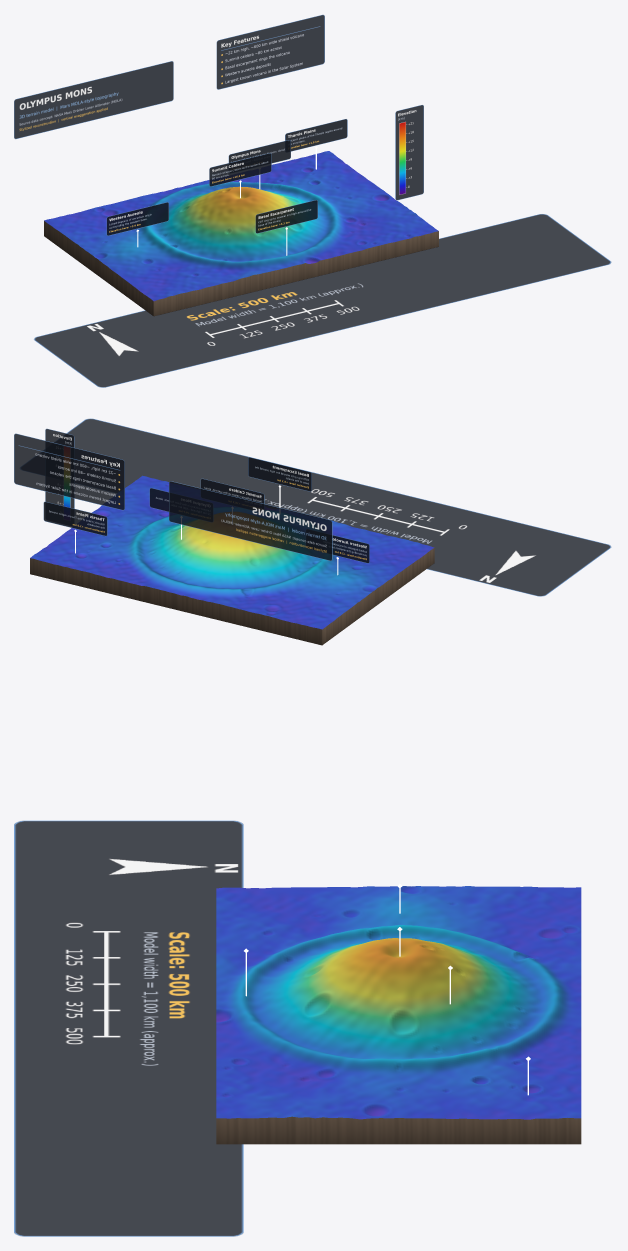
The model's file is 08_Olympus_Mons.glb.
The picture shows the model from 3 angles, top to bottom: view 1: azimuth 30°, elevation 25°; view 2: azimuth 150°, elevation 25°; view 3: azimuth 270°, elevation 25°; orthographic projection. The views are drawn at different scales.
Parts seen in each view (by area): view 1: Info_ScaleAndCompass, Terrain_Surface, Info_Title, Terrain_Walls, Info_KeyFeatures, Info_ElevationLegend, Label_Summit Caldera, Label_Basal Escarpment, Label_Western Aureole, Label_Tharsis Plains, Label_Olympus Mons; view 2: Terrain_Surface, Info_ScaleAndCompass, Info_Title, Terrain_Walls, Info_KeyFeatures, Label_Tharsis Plains, Label_Basal Escarpment, Label_Olympus Mons, Label_Summit Caldera, Label_Western Aureole, Info_ElevationLegend; view 3: Info_ScaleAndCompass, Terrain_Surface, Terrain_Walls.
Boxes of the visible parts, <box> form: Info_ScaleAndCompass: <box>34,214,611,387</box>; Terrain_Surface: <box>44,151,438,301</box>; Info_Title: <box>14,61,173,138</box>; Terrain_Walls: <box>44,221,438,316</box>; Info_KeyFeatures: <box>216,14,324,89</box>; Info_ElevationLegend: <box>395,105,423,200</box>; Label_Summit Caldera: <box>209,153,271,186</box>; Label_Basal Escarpment: <box>255,200,317,233</box>; Label_Western Aureole: <box>106,202,168,235</box>; Label_Tharsis Plains: <box>285,119,347,151</box>; Label_Olympus Mons: <box>228,140,290,163</box>; Terrain_Surface: <box>30,475,434,629</box>; Info_ScaleAndCompass: <box>20,418,611,596</box>; Info_Title: <box>169,481,332,560</box>; Terrain_Walls: <box>30,548,434,645</box>; Info_KeyFeatures: <box>14,433,124,510</box>; Label_Tharsis Plains: <box>43,501,107,536</box>; Label_Basal Escarpment: <box>248,457,311,491</box>; Label_Olympus Mons: <box>149,488,212,521</box>; Label_Summit Caldera: <box>200,478,264,509</box>; Label_Western Aureole: <box>306,529,369,563</box>; Info_ElevationLegend: <box>45,428,74,508</box>; Info_ScaleAndCompass: <box>14,820,243,1236</box>; Terrain_Surface: <box>216,886,581,1119</box>; Terrain_Walls: <box>216,1116,581,1144</box>.
Size of the model in its own units: 18 by 4.81 by 10.97.
11 materials, 9 textured.
